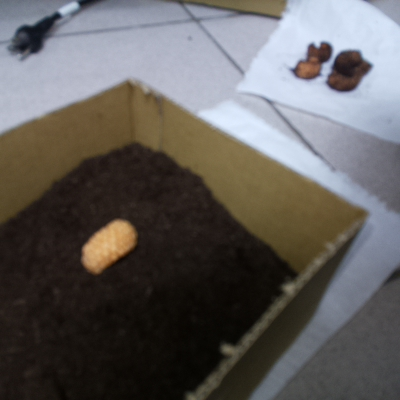eggs: (73, 215, 141, 277)
